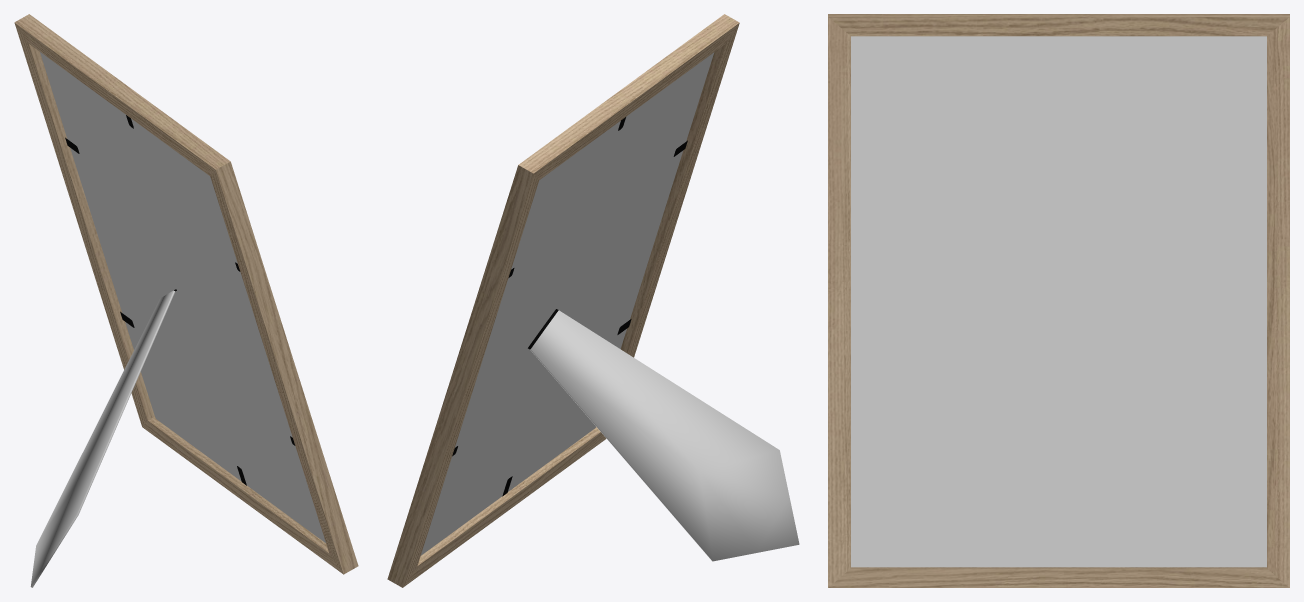
File: frame.fbx
The picture shows the model from 3 angles, left to right: view 1: azimuth 30°, elevation 25°; view 2: azimuth 150°, elevation 25°; view 3: azimuth 270°, elevation 25°; orthographic projection. The views are drawn at different scales.
Visible parts, largest first — view 1: Plane.001; view 2: Plane.001; view 3: Plane.001.
Boxes of the visible parts, box(x1,y1,x2,y2) form: Plane.001: box(14, 14, 358, 587); Plane.001: box(387, 14, 799, 587); Plane.001: box(828, 14, 1289, 587).
Bounding box in the file's own units: 168 × 268 × 222.
